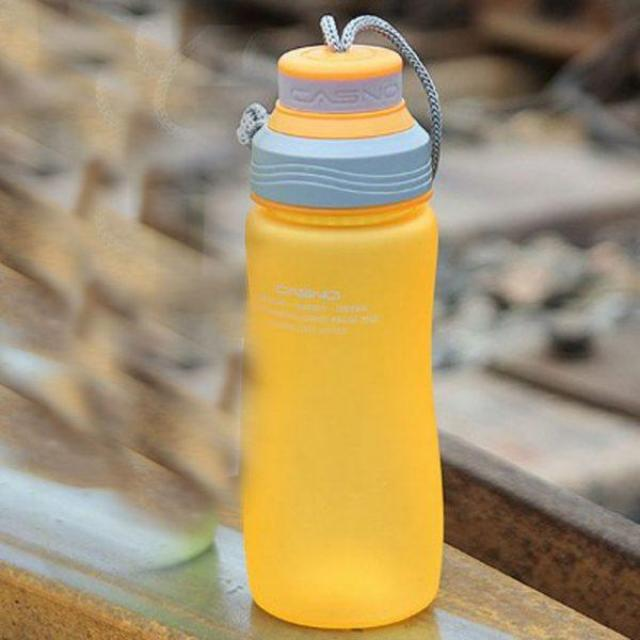plastic_bottle: (228, 8, 481, 639)
